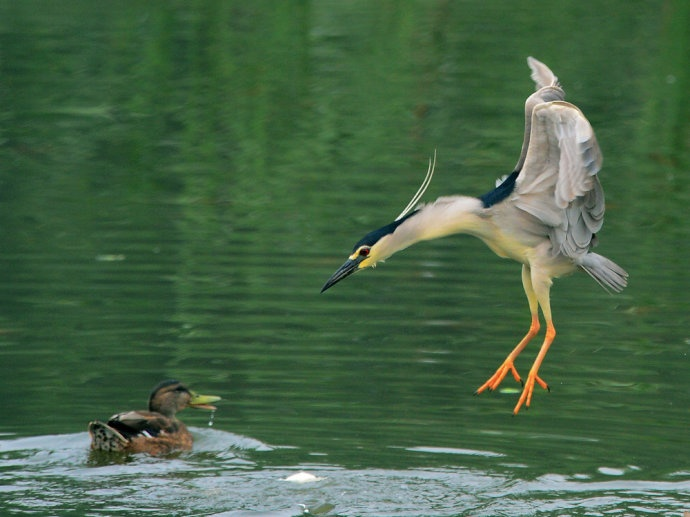bird: (276, 49, 635, 410)
